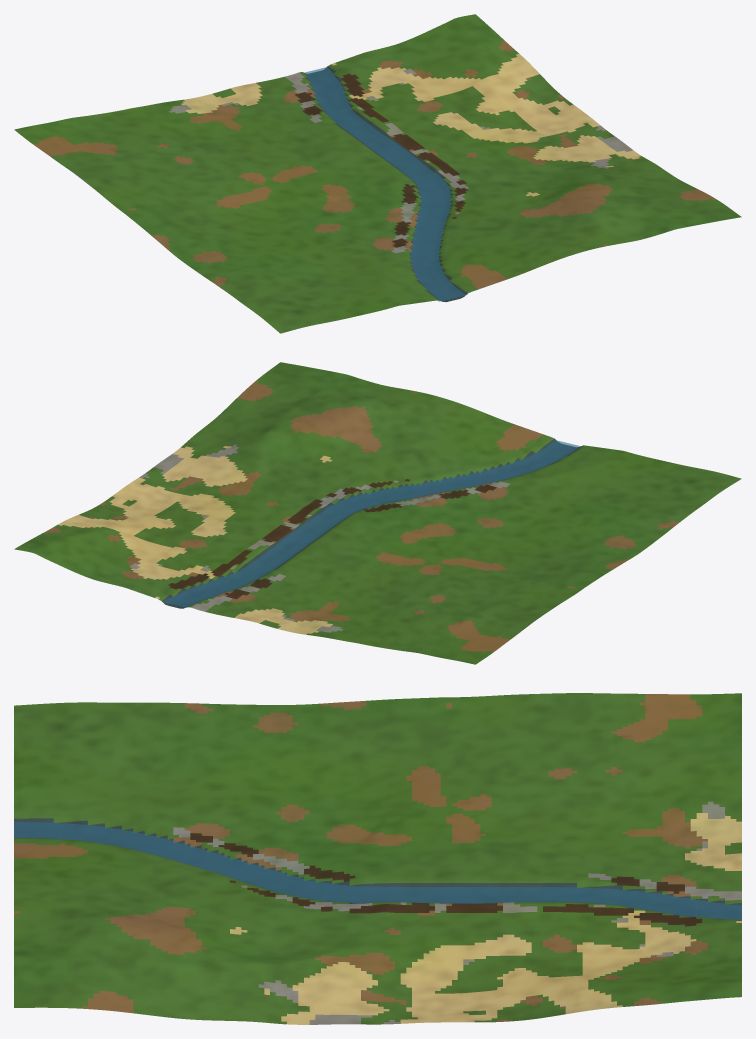
File: chunk_4_6.glb
The picture shows the model from 3 angles, top to bottom: view 1: azimuth 30°, elevation 25°; view 2: azimuth 150°, elevation 25°; view 3: azimuth 270°, elevation 25°; orthographic projection. The views are drawn at different scales.
Parts seen in each view (by area): view 1: Surface_Grass, Surface_Sand, Surface_Dirt, Surface_Water, Water, Surface_Mud, Surface_Gravel; view 2: Surface_Grass, Surface_Dirt, Surface_Sand, Surface_Water, Water, Surface_Mud, Surface_Gravel; view 3: Surface_Grass, Surface_Dirt, Surface_Sand, Surface_Water, Water, Surface_Mud, Surface_Gravel.
Part boxes in pixels (x1,y1,x2,y2): Surface_Grass: [14, 14, 741, 333]; Surface_Sand: [181, 53, 641, 196]; Surface_Dirt: [33, 40, 716, 289]; Surface_Water: [303, 66, 467, 302]; Water: [304, 67, 467, 301]; Surface_Mud: [295, 73, 467, 247]; Surface_Gravel: [169, 68, 633, 253]; Surface_Grass: [14, 362, 741, 664]; Surface_Dirt: [43, 381, 678, 652]; Surface_Sand: [58, 446, 332, 634]; Surface_Water: [162, 438, 581, 608]; Water: [163, 440, 580, 607]; Surface_Mud: [168, 479, 496, 599]; Surface_Gravel: [129, 444, 510, 632]; Surface_Grass: [14, 693, 741, 1024]; Surface_Dirt: [14, 694, 707, 1021]; Surface_Sand: [230, 813, 741, 1024]; Surface_Water: [14, 818, 741, 919]; Water: [14, 822, 741, 920]; Surface_Mud: [190, 833, 702, 926]; Surface_Gravel: [173, 801, 741, 1024].
Bounding box in the file's own units: 256 × 12.38 × 256.
